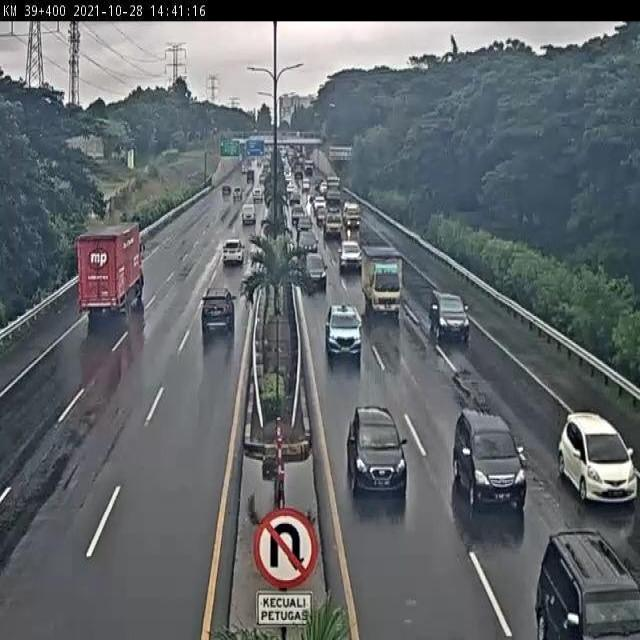Car: (534, 530, 640, 638), (453, 409, 528, 514), (558, 411, 638, 504), (348, 404, 409, 495), (428, 290, 471, 344), (325, 302, 363, 363), (201, 288, 237, 340), (304, 252, 327, 289), (338, 240, 362, 273), (222, 238, 245, 265), (298, 229, 318, 258)
Truck: (63, 220, 141, 335), (360, 243, 409, 327)
Van: (240, 205, 258, 228)
